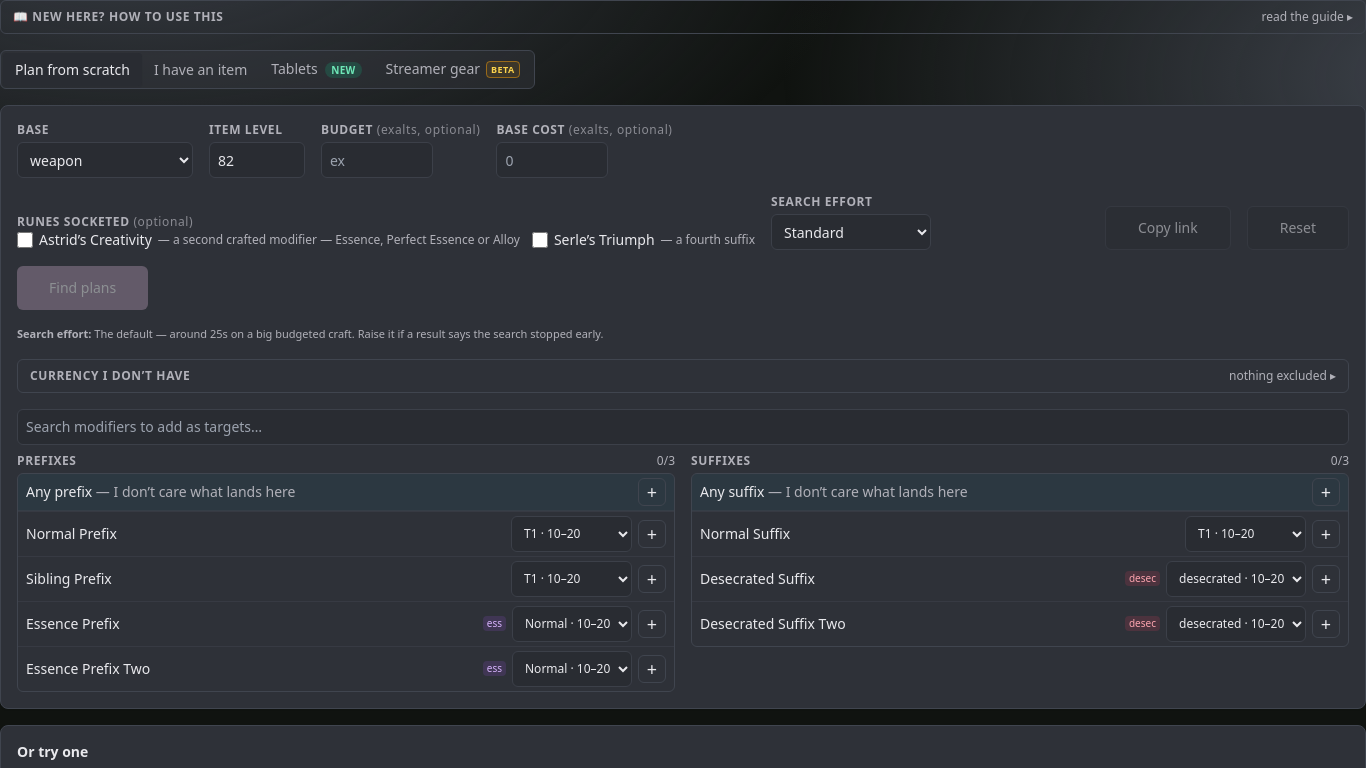
Test: EngineLab — fracture toggle › marks a normal target fractured and shows the badge
Expected: the field with placeholder "Search modifiers to add as targets…" is shown, [17,409,1349,445]
Click the button "+" in the row of "Normal Prefix": (652, 534) [638,520,666,548]
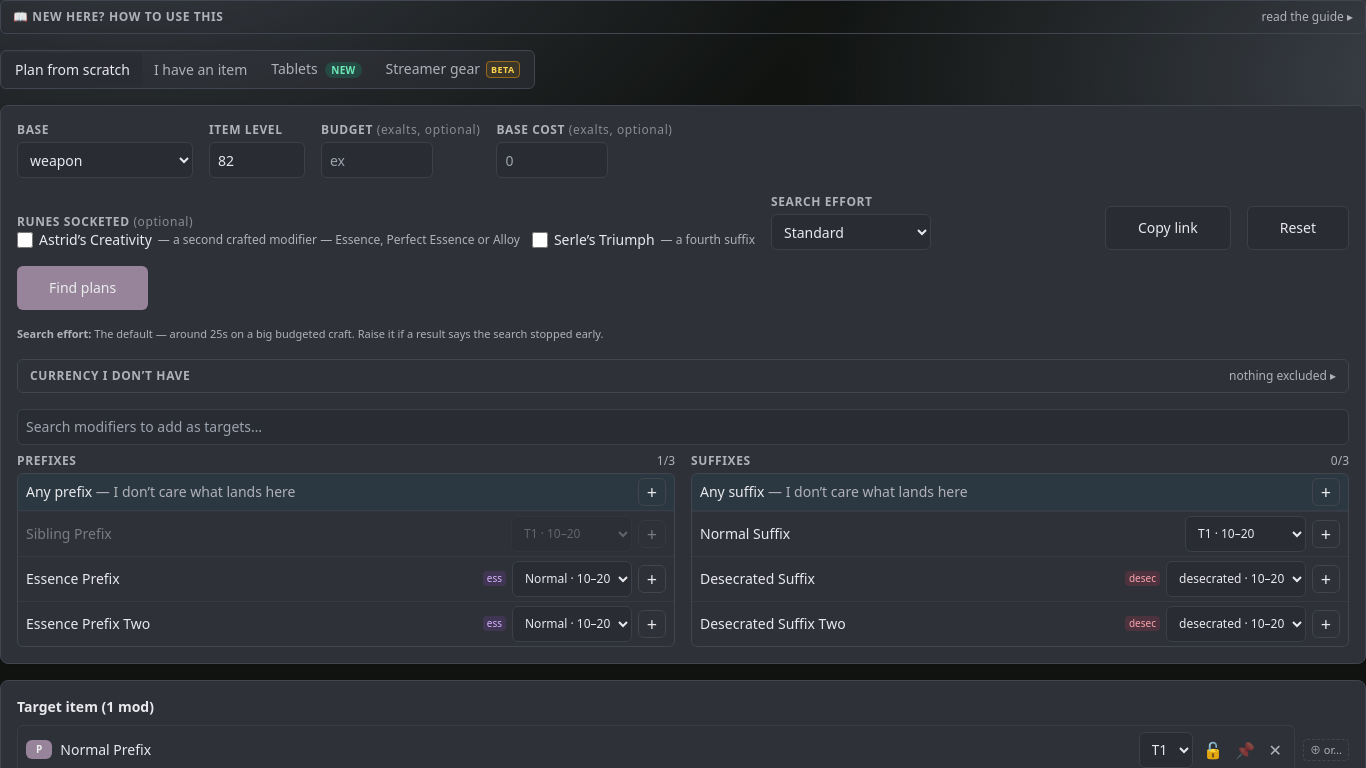
Click the button titled "Mark as already fractured": (1213, 750) [1201,738,1225,762]
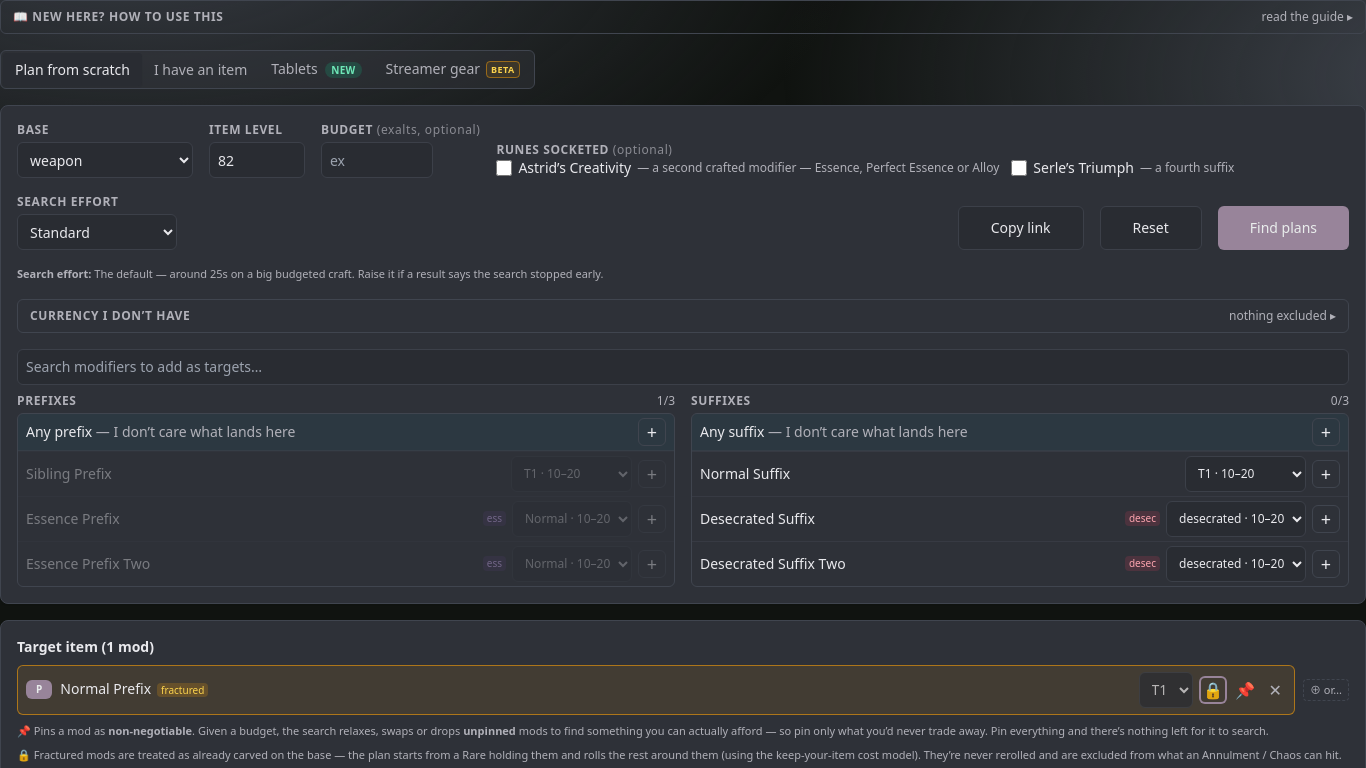
Expected: the text "fractured" is shown, [157,683,208,697]
